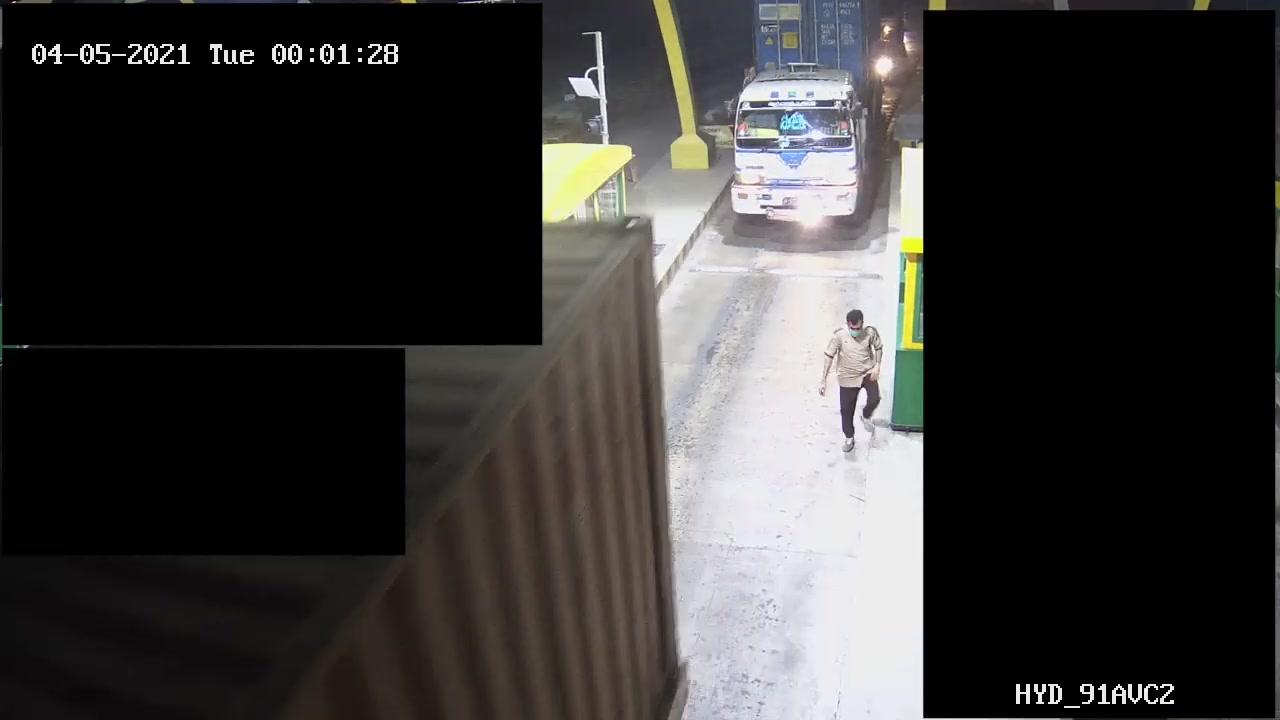F6: (720, 1, 883, 233)
